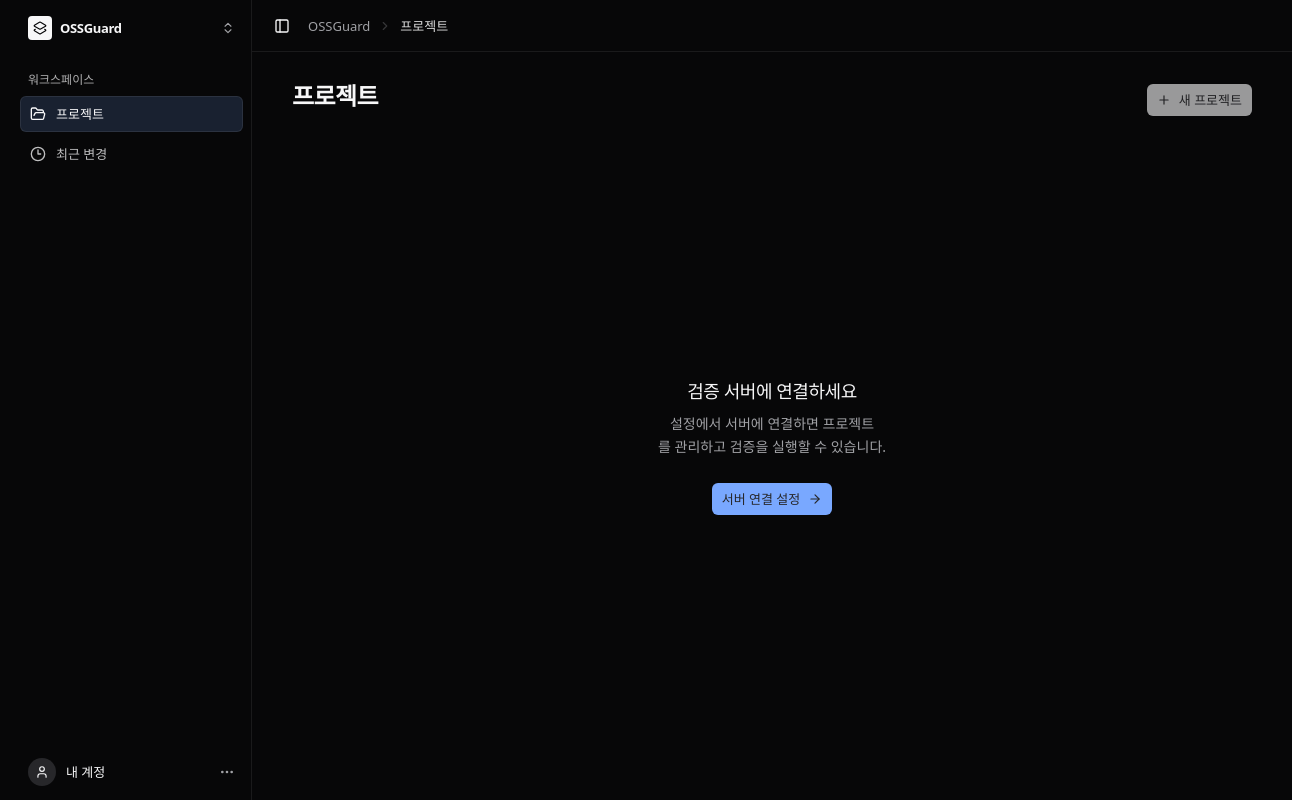
Test: supports keyboard rail navigation, Escape, and route changes
Click the button named "사이드바 토글".
click(282, 26)  # box [268,12,296,40]
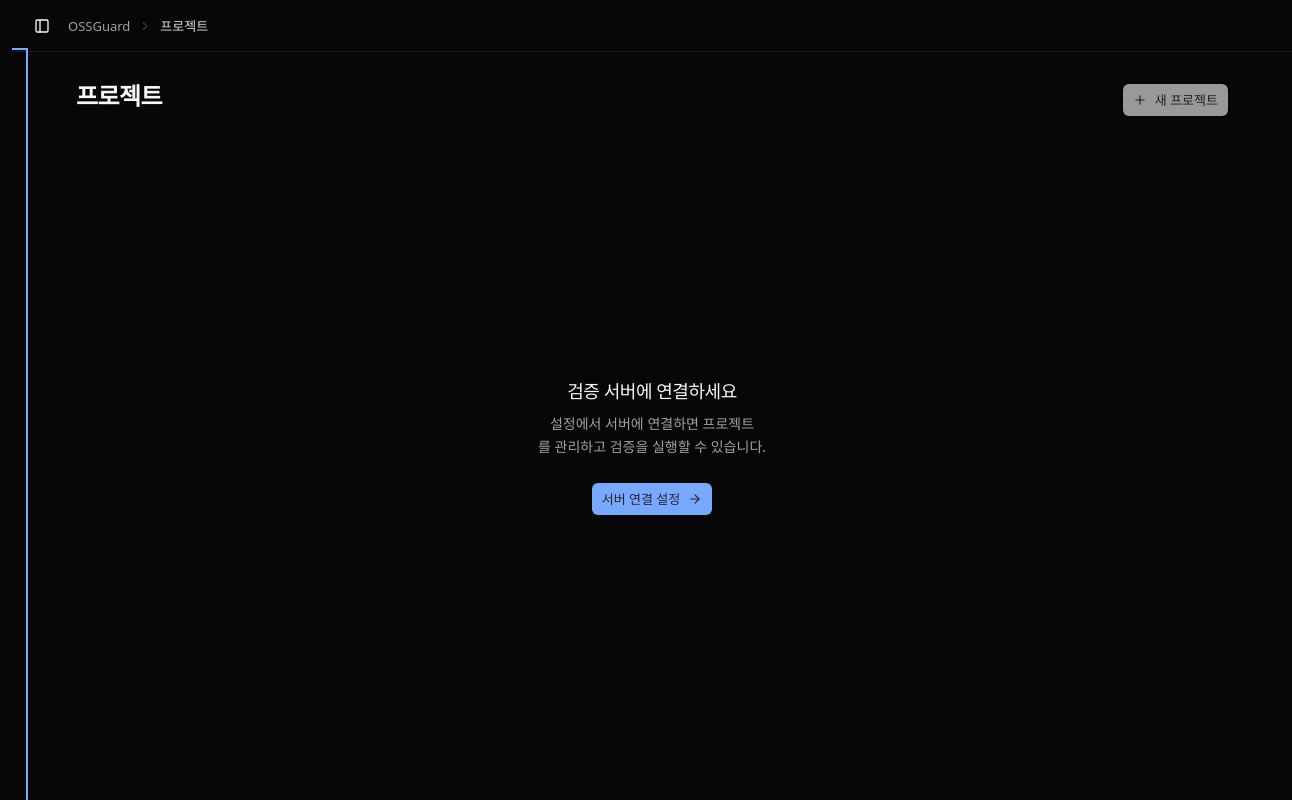
Press Arrowright
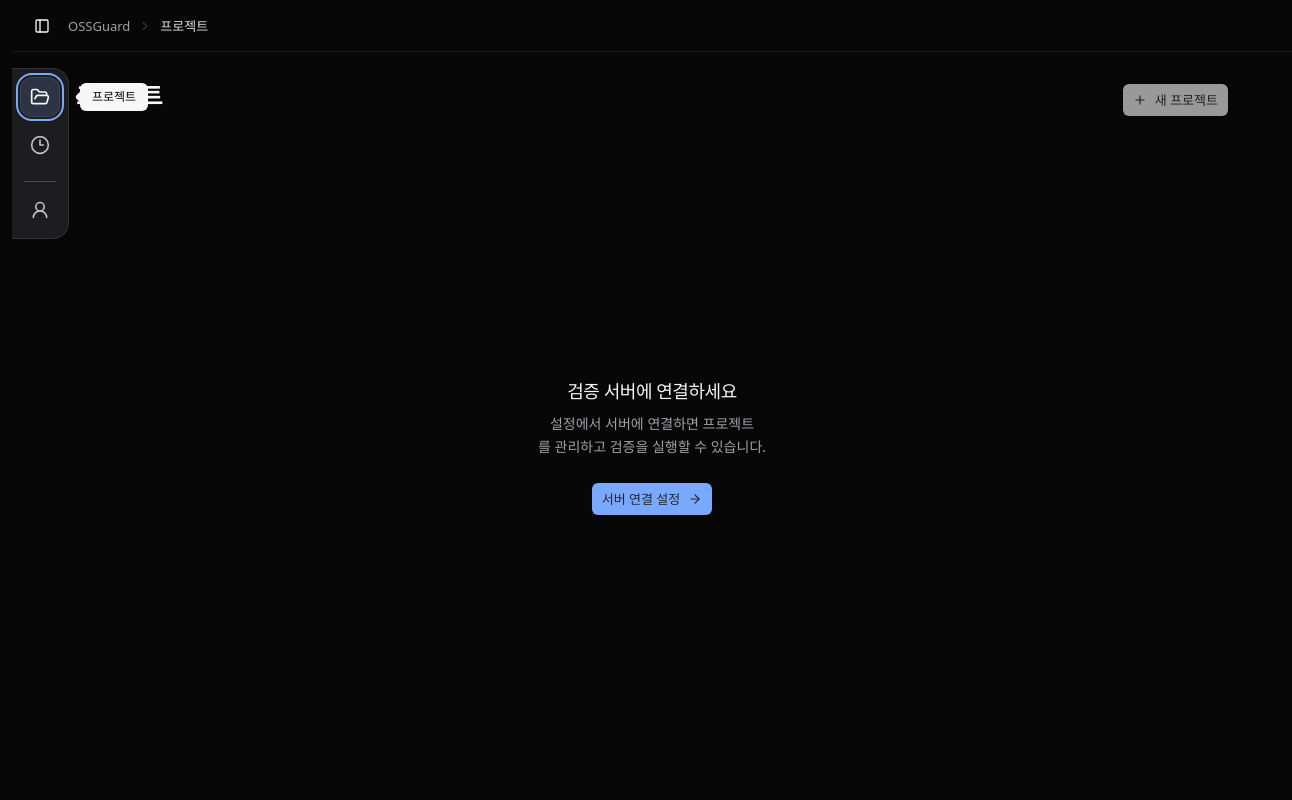
Press Escape
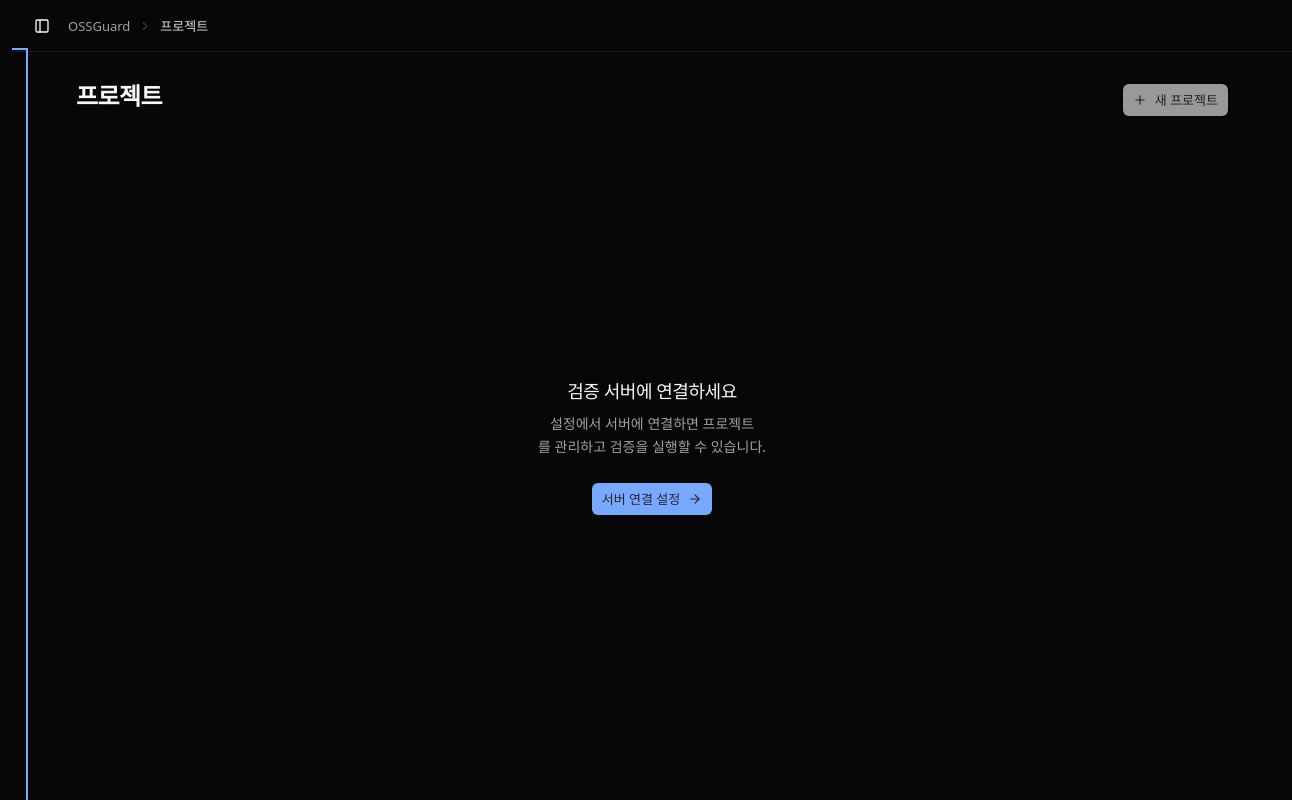
expect the button named "빠른 메뉴 열기" is collapsed: met, box [12,52,24,799]
Press Enter
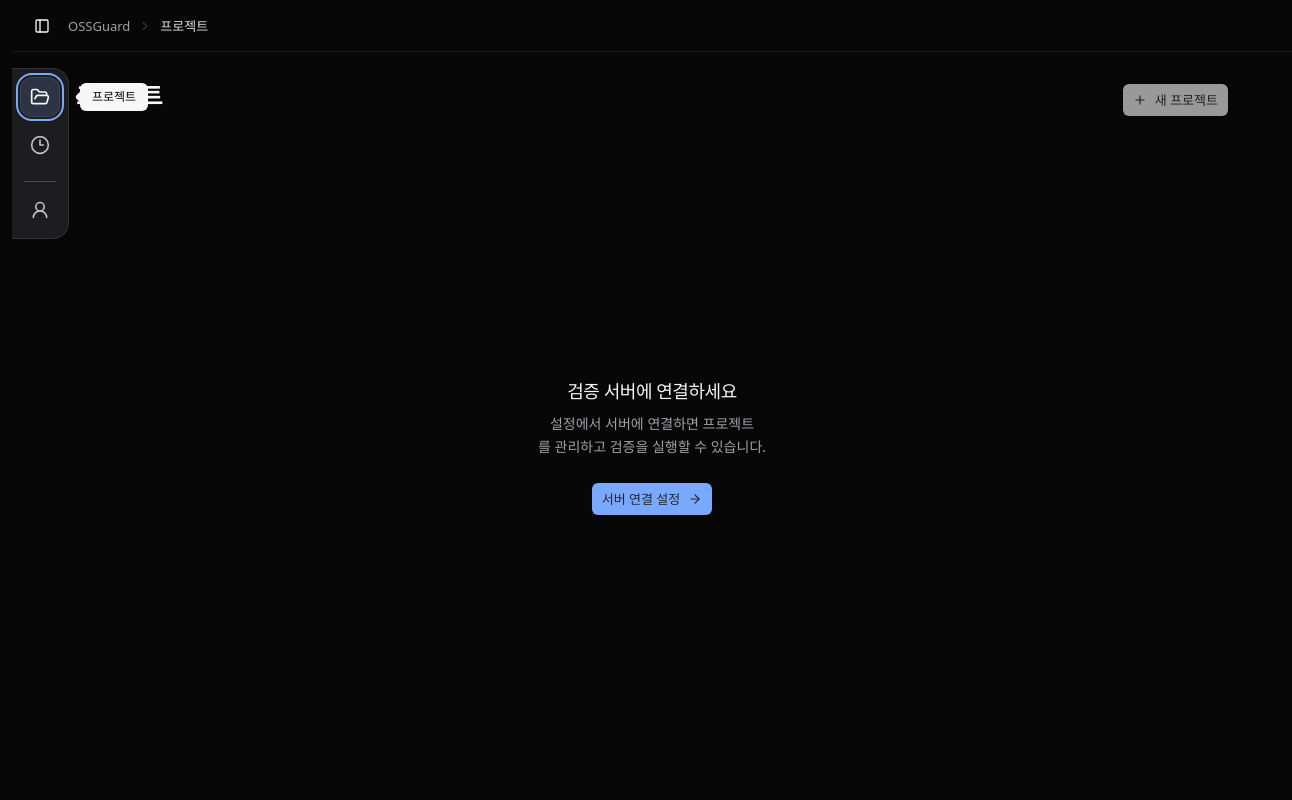
Click the link named "최근 변경".
click(40, 145)  # box [20,125,60,165]
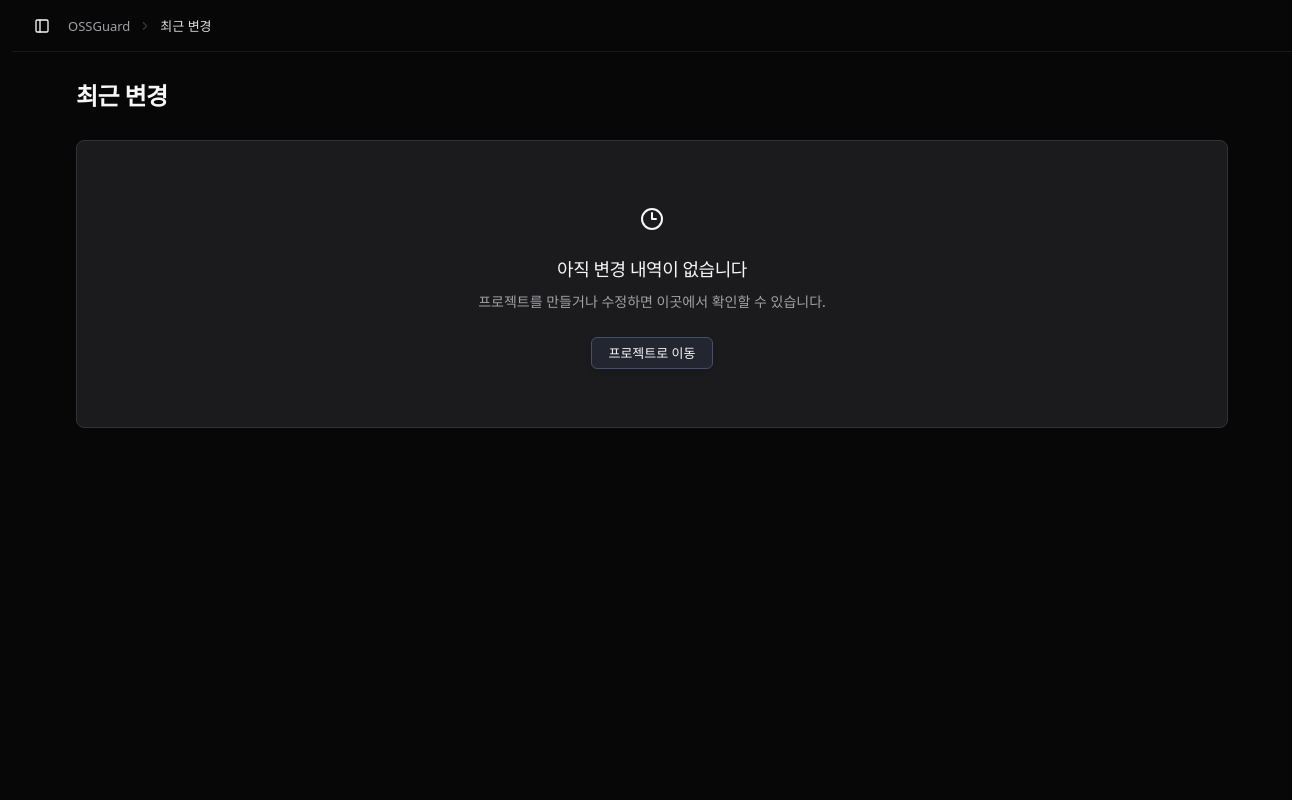
expect the heading "최근 변경" is shown: met, box [76,84,168,108]
